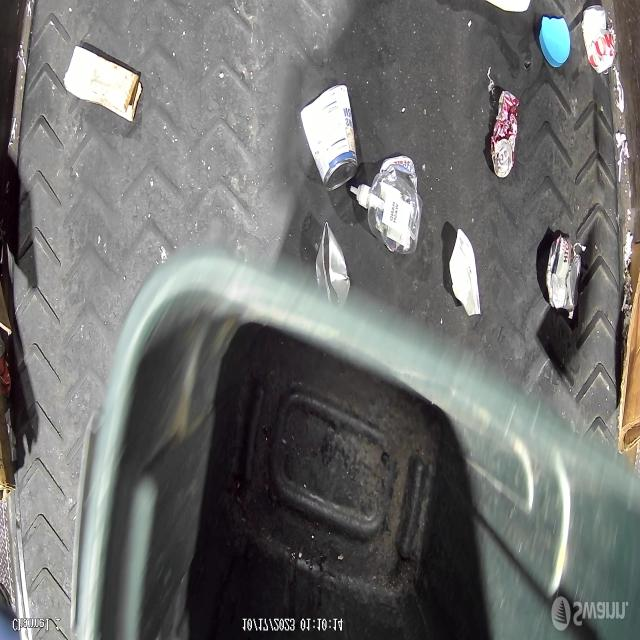can: (300, 86, 357, 192), (316, 222, 350, 308), (490, 89, 521, 178), (582, 4, 619, 76), (547, 234, 581, 311)
